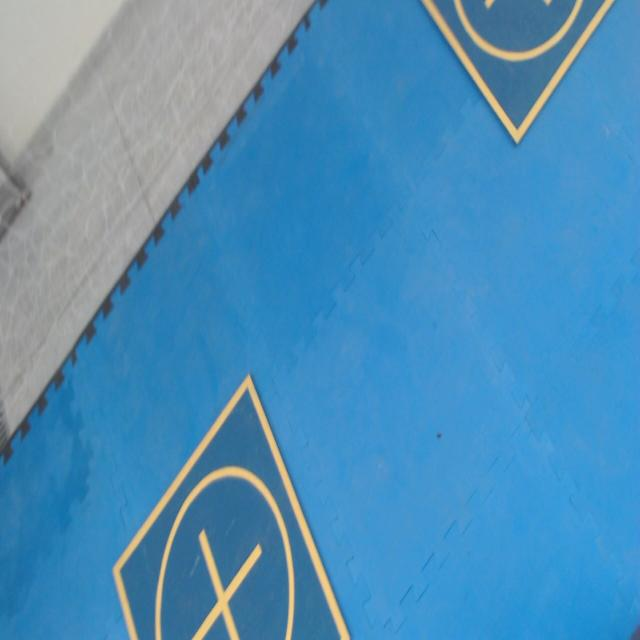base_pouso: (112, 375, 355, 639), (419, 0, 620, 150)
